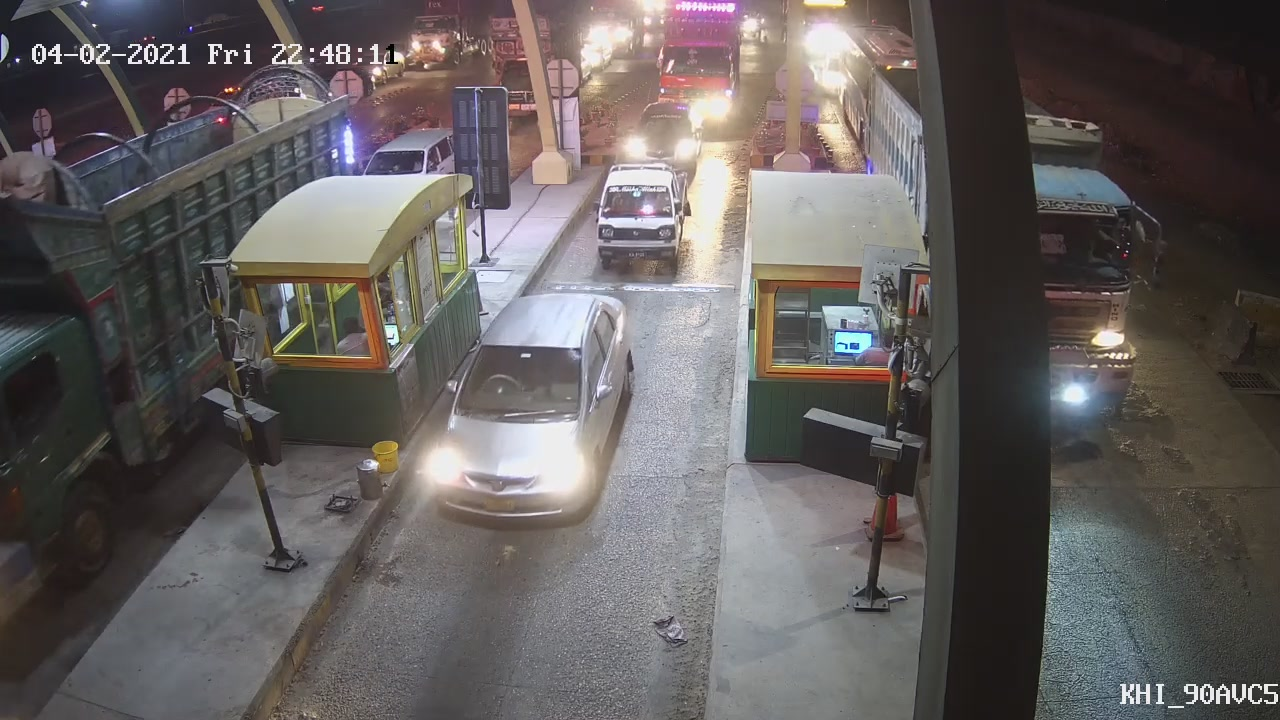F1: (428, 290, 637, 526)
F2: (583, 158, 690, 266)
